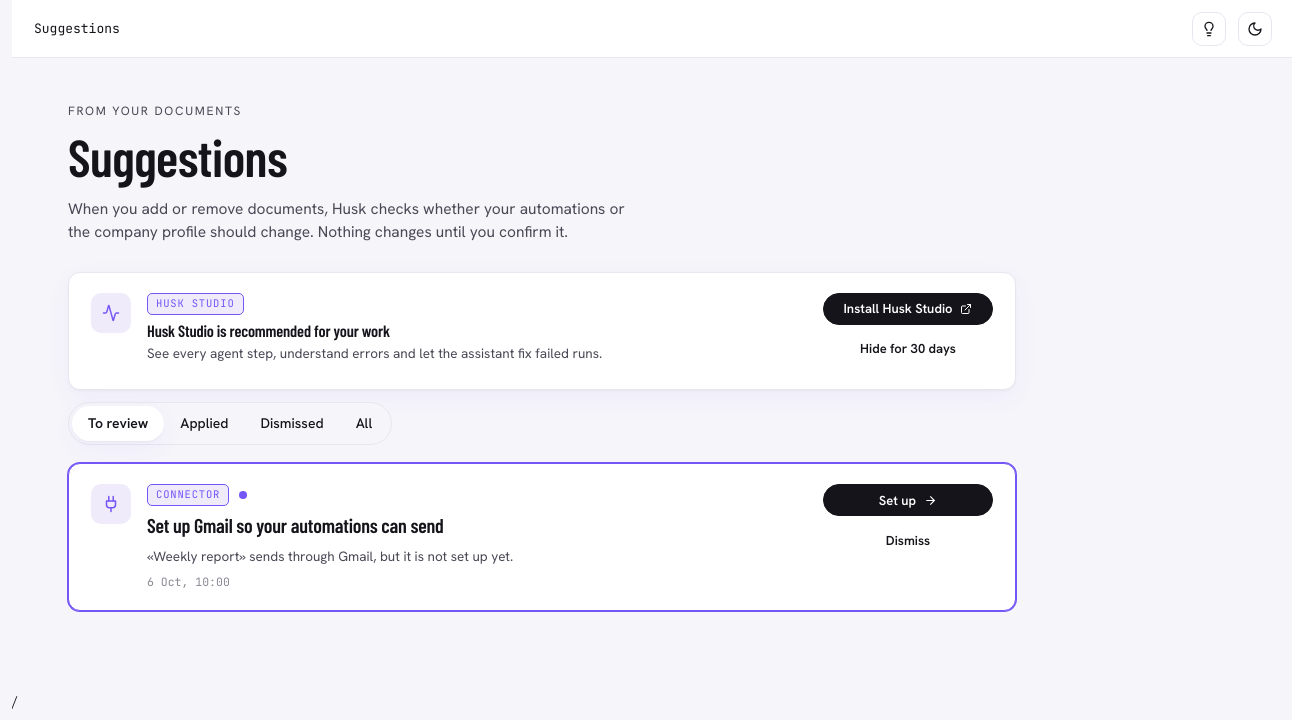
suggestion for a connector that is not alive › sends the user to the connector setup in Settings
Expected: the heading "Set up Gmail so your automations can send" is shown, [147,513,444,537]
Expected: the text "Connector" is shown, [147,484,229,506]
Click the button "Set up".
click(908, 500)  # box [823,484,993,516]
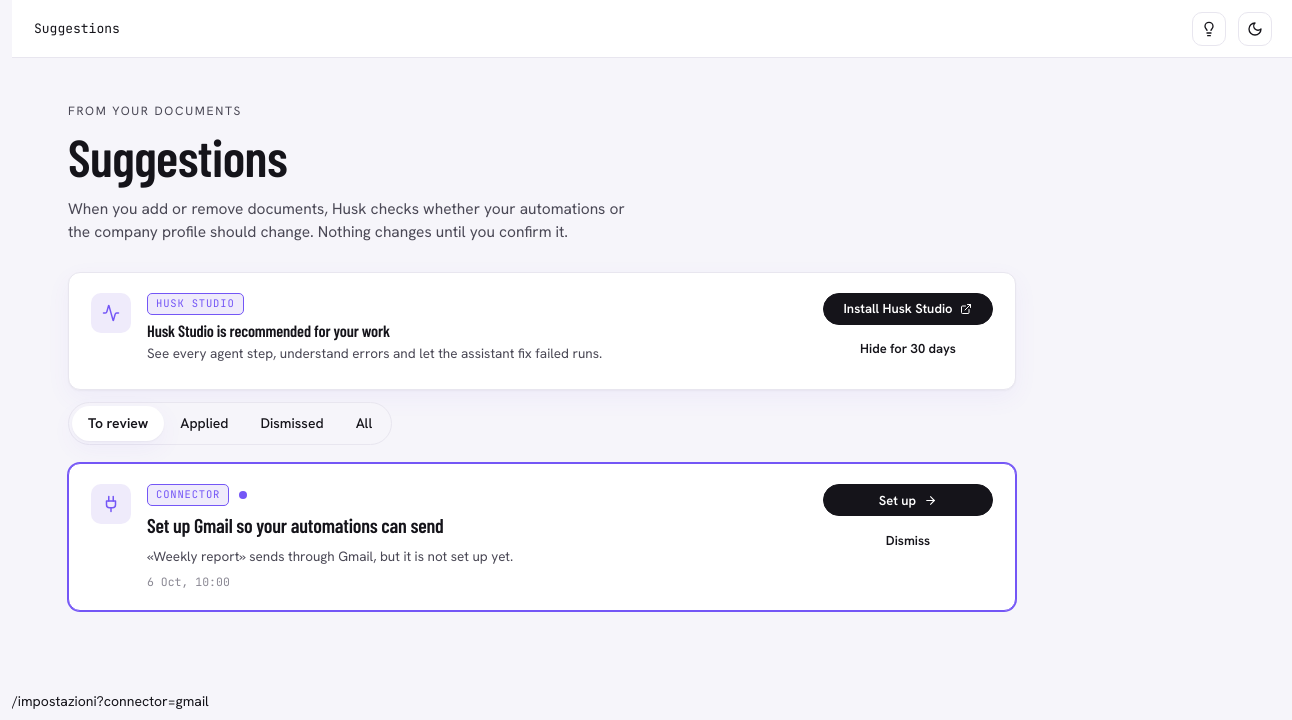
Expected: the text with test id "where" reads "/impostazioni?connector=gmail", [12,692,209,710]
